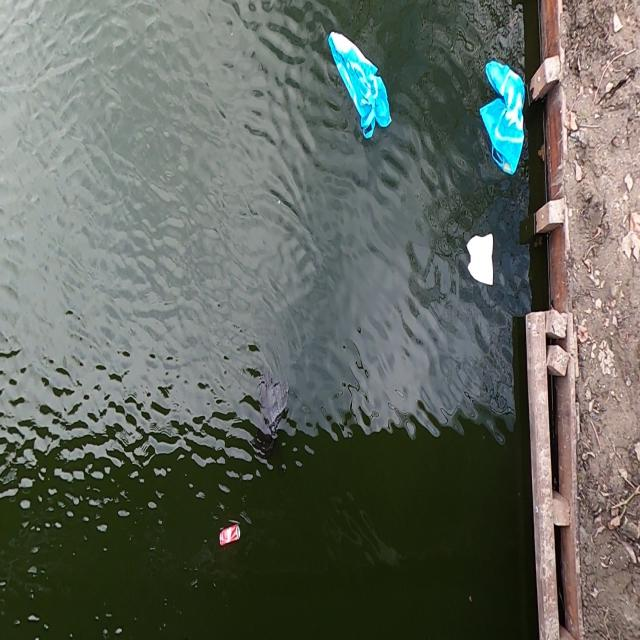Autre plastique: (462, 229, 500, 294)
Non plastique: (215, 520, 244, 552)
Sac plastique: (324, 26, 398, 145), (477, 56, 528, 183)
